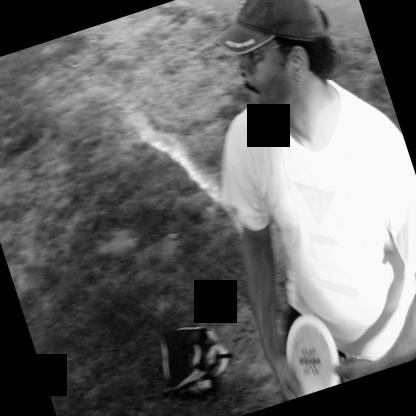backpack: (160, 325, 230, 402)
